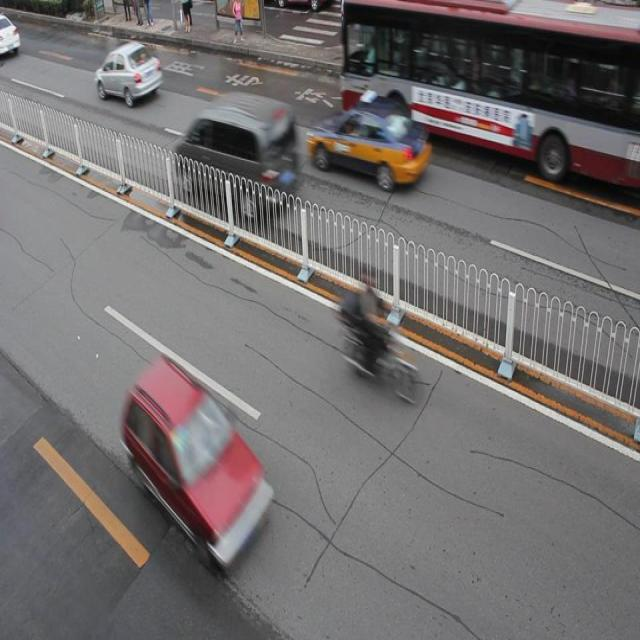car: (124, 357, 270, 564), (309, 95, 430, 188), (94, 41, 163, 104), (1, 15, 20, 57)
truck: (177, 92, 297, 216)
van: (341, 1, 640, 185)
